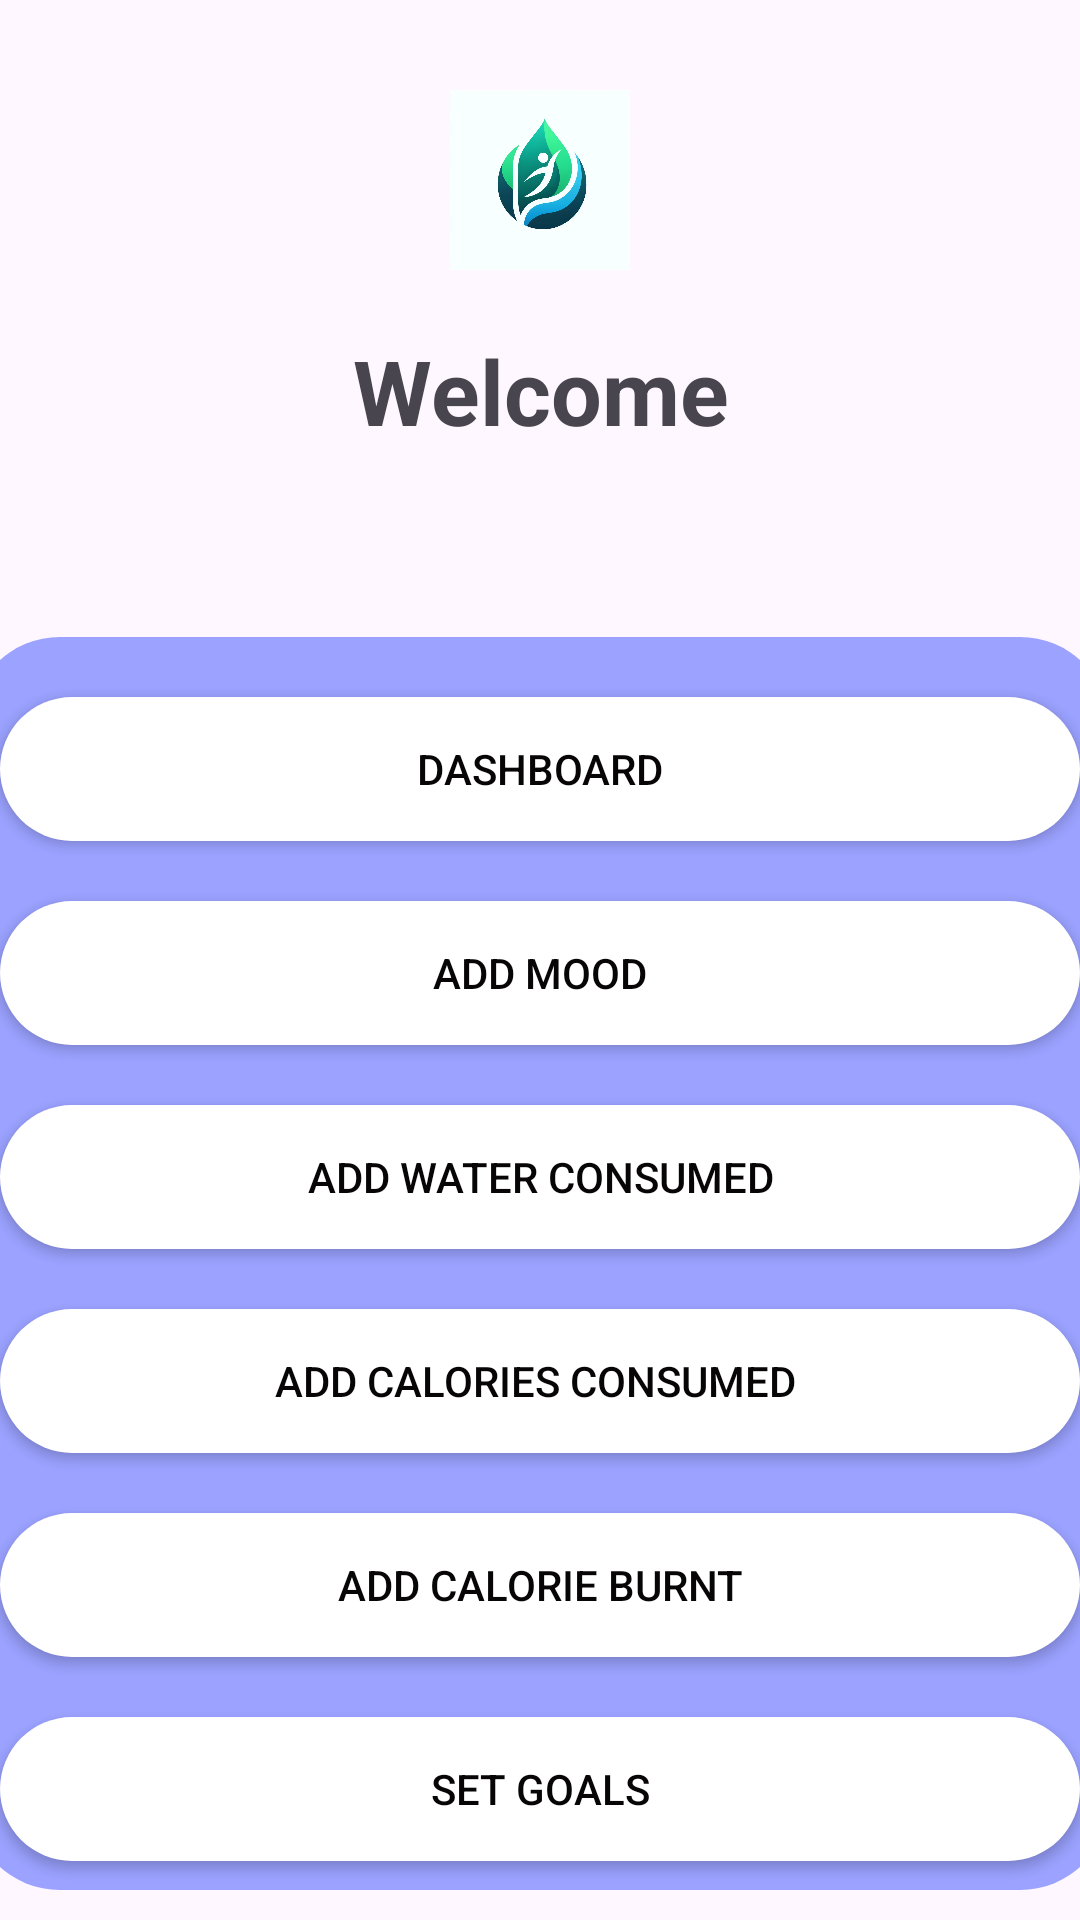

Where icons sit on this 1080×1920 app screen, as (x1, y1, x2, y2):
app: (498, 119, 587, 229)
